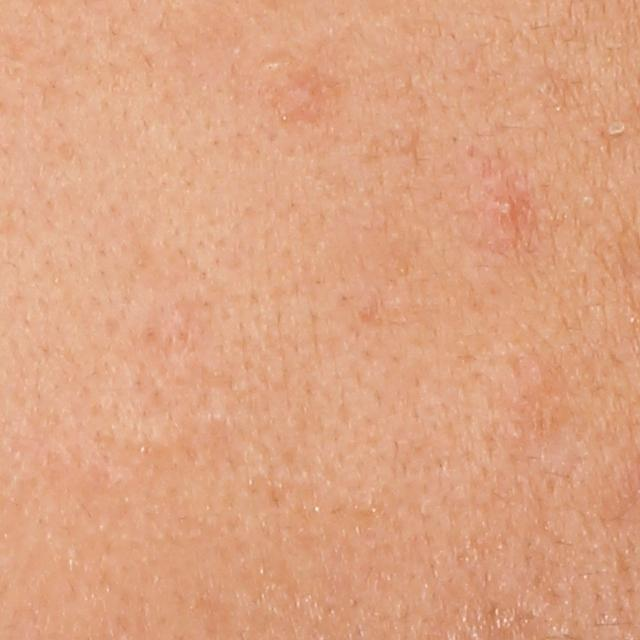papule: (489, 187, 527, 225)
